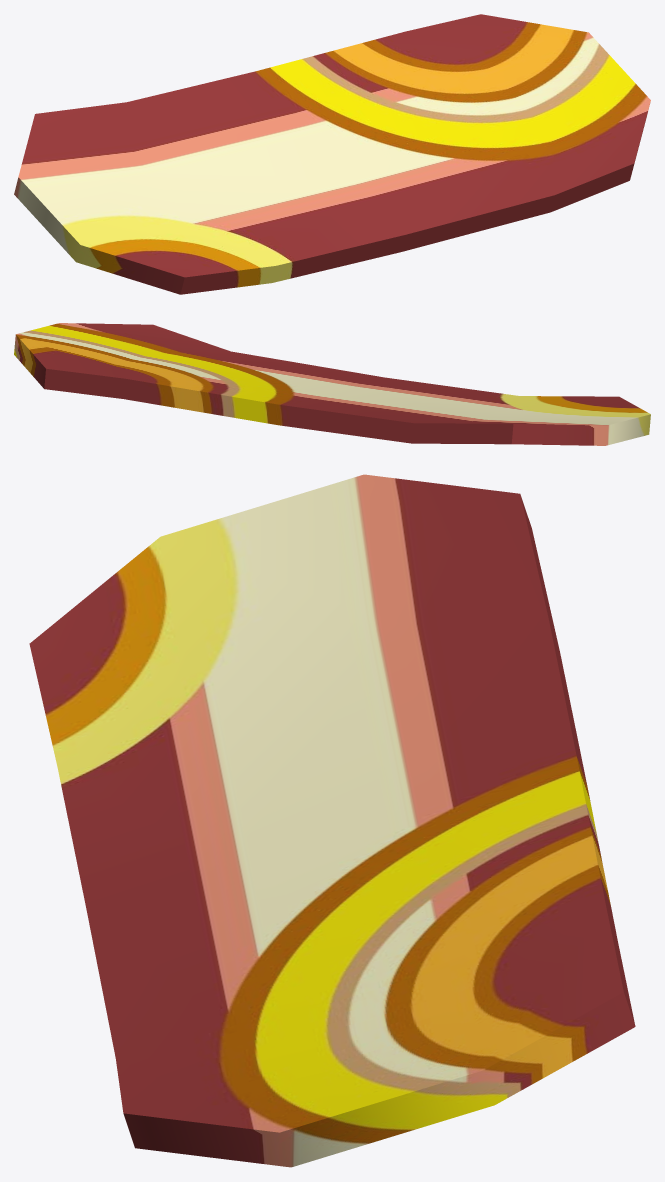
The model's file is Sket_0.fbx.
The picture shows the model from 3 angles, top to bottom: view 1: azimuth 30°, elevation 25°; view 2: azimuth 150°, elevation 25°; view 3: azimuth 270°, elevation 25°; orthographic projection. The views are drawn at different scales.
Visible parts, largest first — view 1: SketFin:pCube3; view 2: SketFin:pCube3; view 3: SketFin:pCube3.
Boxes of the visible parts, bbox=[...] form: SketFin:pCube3: bbox=[14, 14, 650, 294]; SketFin:pCube3: bbox=[14, 323, 650, 445]; SketFin:pCube3: bbox=[29, 474, 635, 1167].
Bounding box in the file's own units: 8.3 × 1.58 × 3.82.
